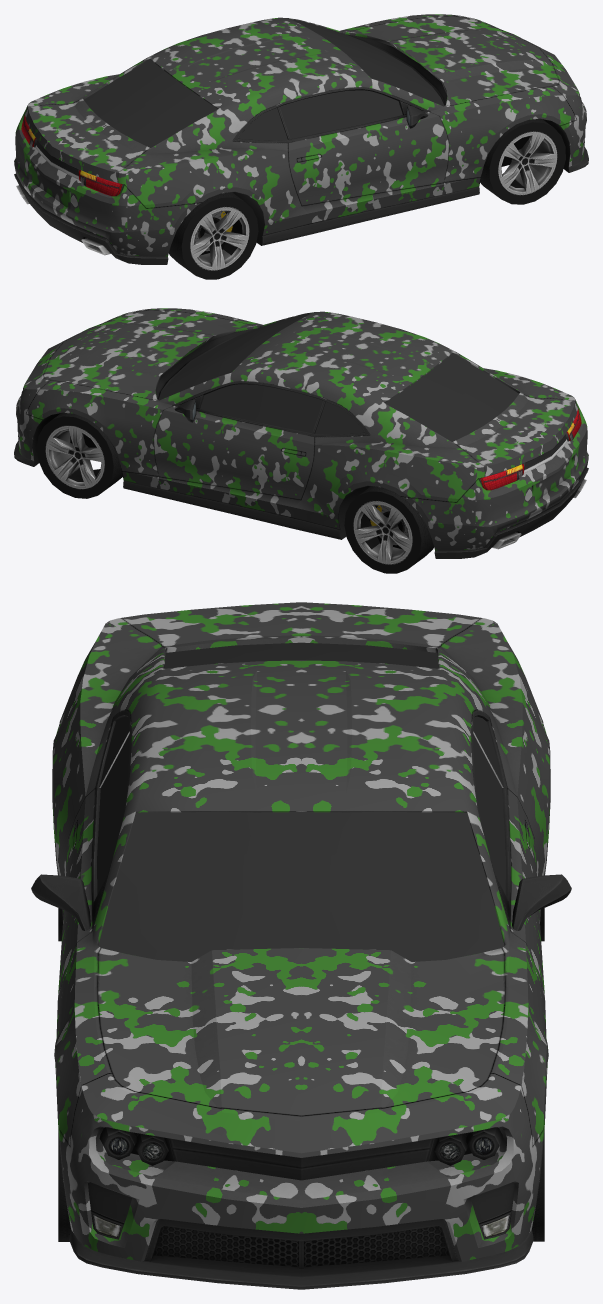
The model's file is car_1.FBX.
3 renders of one model, top to bottom at view 1: azimuth 30°, elevation 25°; view 2: azimuth 150°, elevation 25°; view 3: azimuth 270°, elevation 25°, orthographic. The views are drawn at different scales.
Visible parts, largest first — view 1: car_1; view 2: car_1; view 3: car_1.
Part boxes in pixels (left/top/right/bottom): car_1: left=14, top=14, right=588, bottom=279; car_1: left=14, top=308, right=588, bottom=573; car_1: left=31, top=602, right=571, bottom=1289.
Size of the model in its own units: 71.51 by 20.46 by 32.18.
